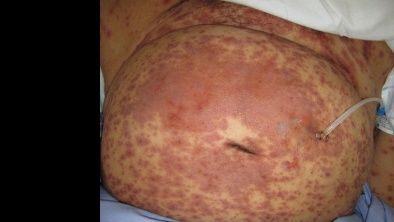SJS-TEN: (99, 0, 394, 222)
